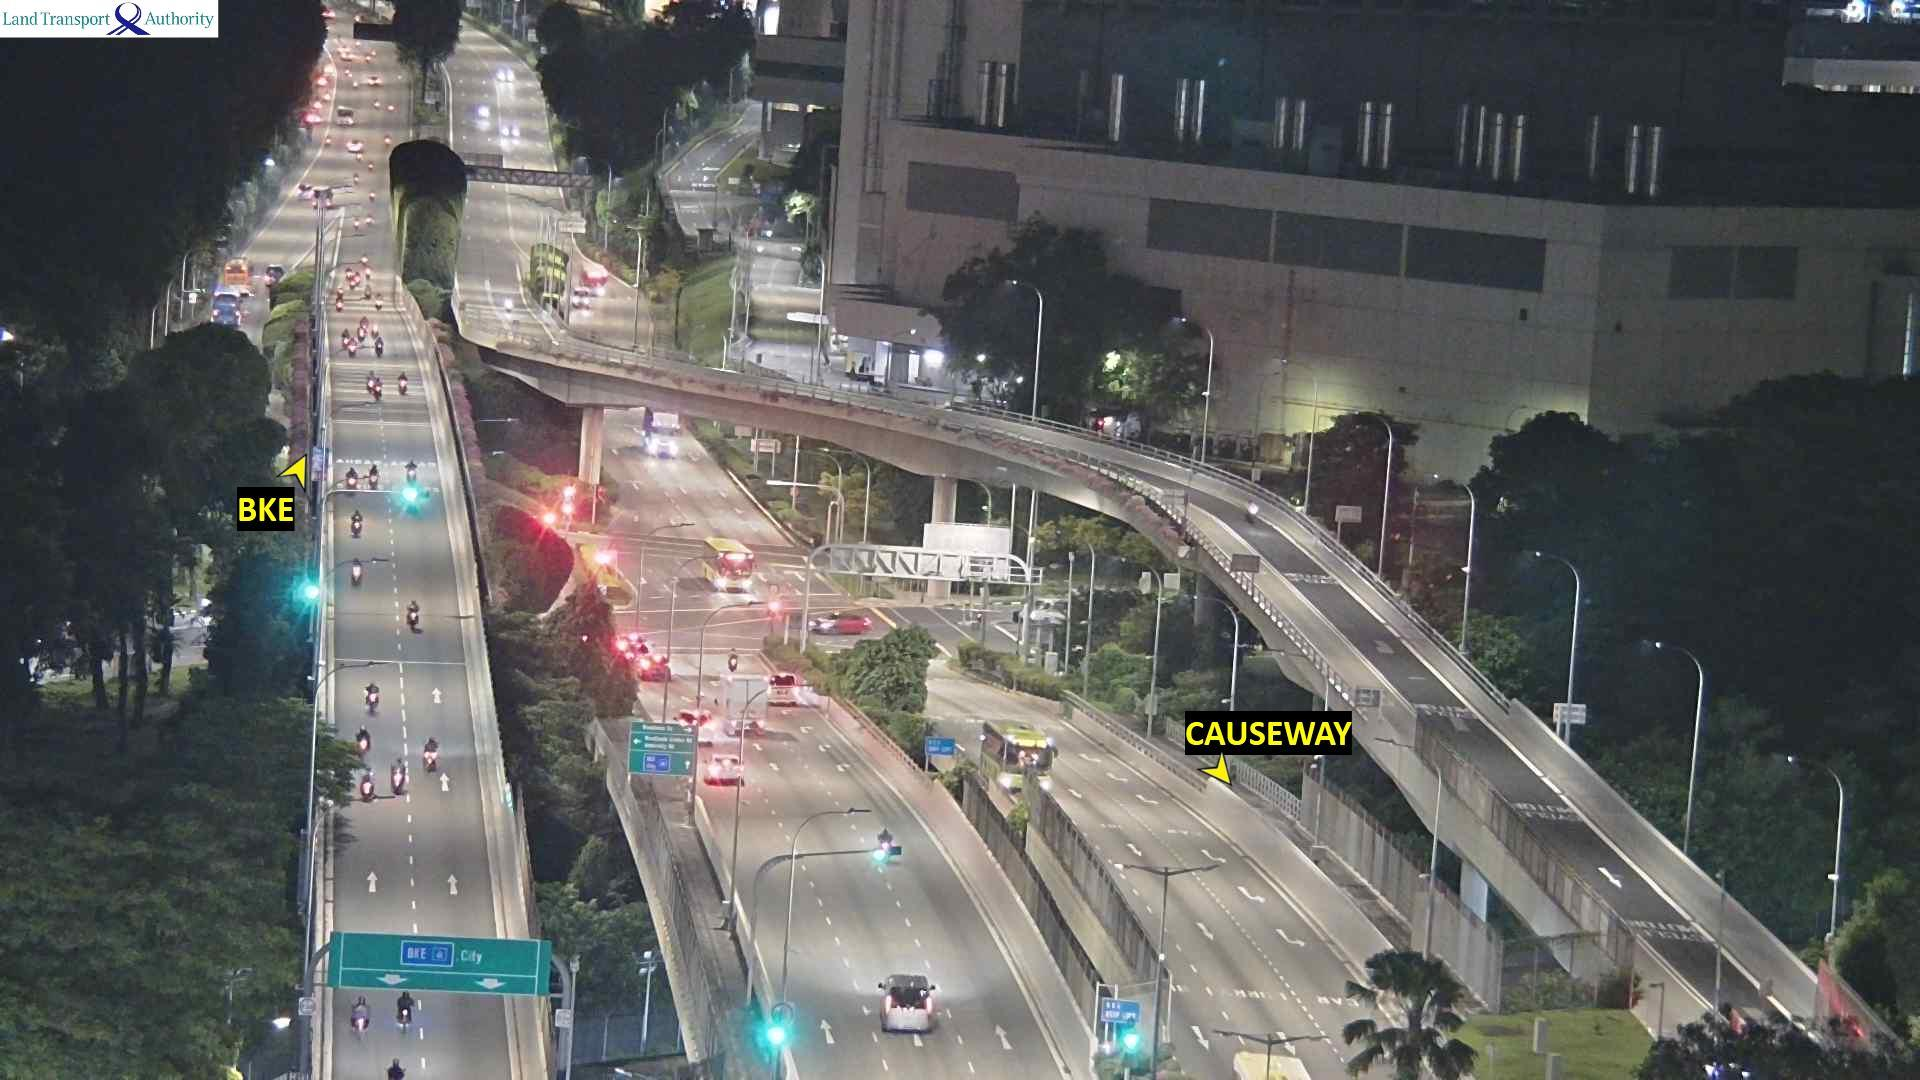vehicle-causeway-johor: (989, 725, 1050, 773), (704, 538, 753, 589), (1233, 1048, 1309, 1080), (644, 409, 680, 458), (1246, 498, 1258, 521)
vehicle-causeway-singapore: (876, 971, 940, 1035), (877, 1001, 939, 1034), (886, 975, 935, 1009), (764, 670, 796, 705), (708, 760, 741, 787), (674, 712, 711, 728), (732, 717, 760, 737), (352, 996, 367, 1030), (401, 994, 421, 1019), (353, 728, 369, 758), (360, 769, 376, 799), (423, 738, 438, 770), (406, 603, 423, 625), (364, 728, 380, 748), (389, 1060, 404, 1080), (363, 692, 373, 717), (396, 765, 404, 794), (351, 514, 363, 533), (405, 377, 418, 393), (364, 373, 373, 396), (409, 459, 418, 481), (363, 316, 372, 338), (371, 465, 378, 487), (347, 468, 353, 491), (345, 339, 352, 357), (342, 327, 348, 345), (376, 338, 384, 352), (375, 294, 381, 310), (353, 272, 361, 282)
